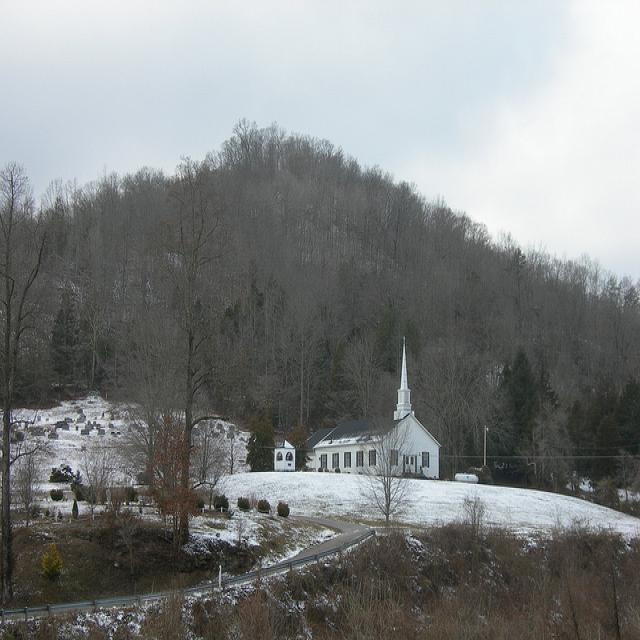cow: (108, 484, 131, 503), (211, 493, 229, 507), (275, 500, 288, 515)
